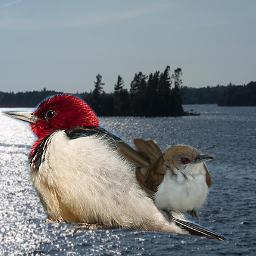Cuckoo: (115, 137, 215, 226)
Woodpecker: (1, 94, 230, 241)
